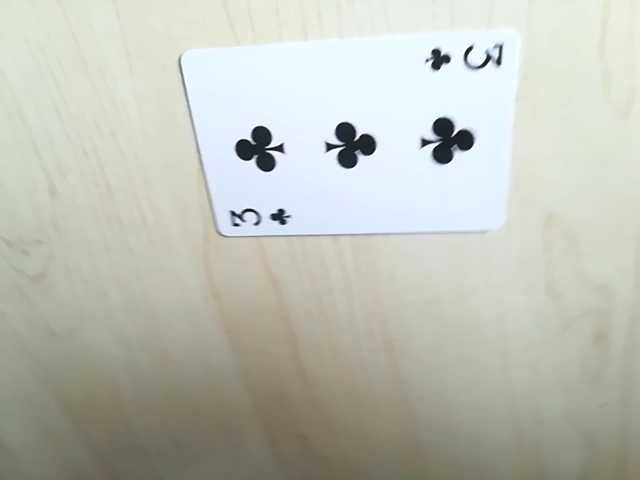mh 3: (425, 35, 507, 77), (221, 202, 295, 237)
